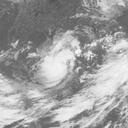cyclone: (34, 49, 74, 90)
